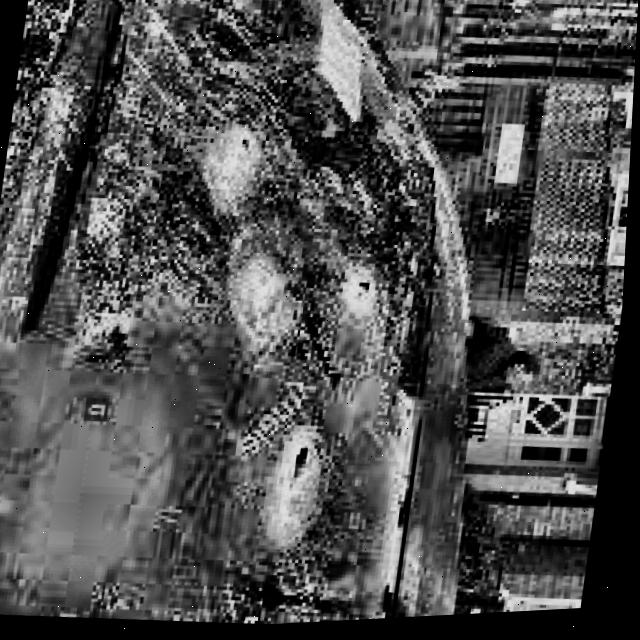glass_shatter: (212, 247, 328, 378), (183, 104, 279, 234), (256, 428, 329, 547), (325, 245, 391, 328)
